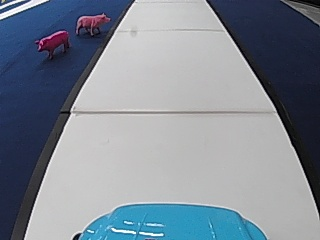pig: (33, 27, 71, 60), (73, 11, 109, 36)
